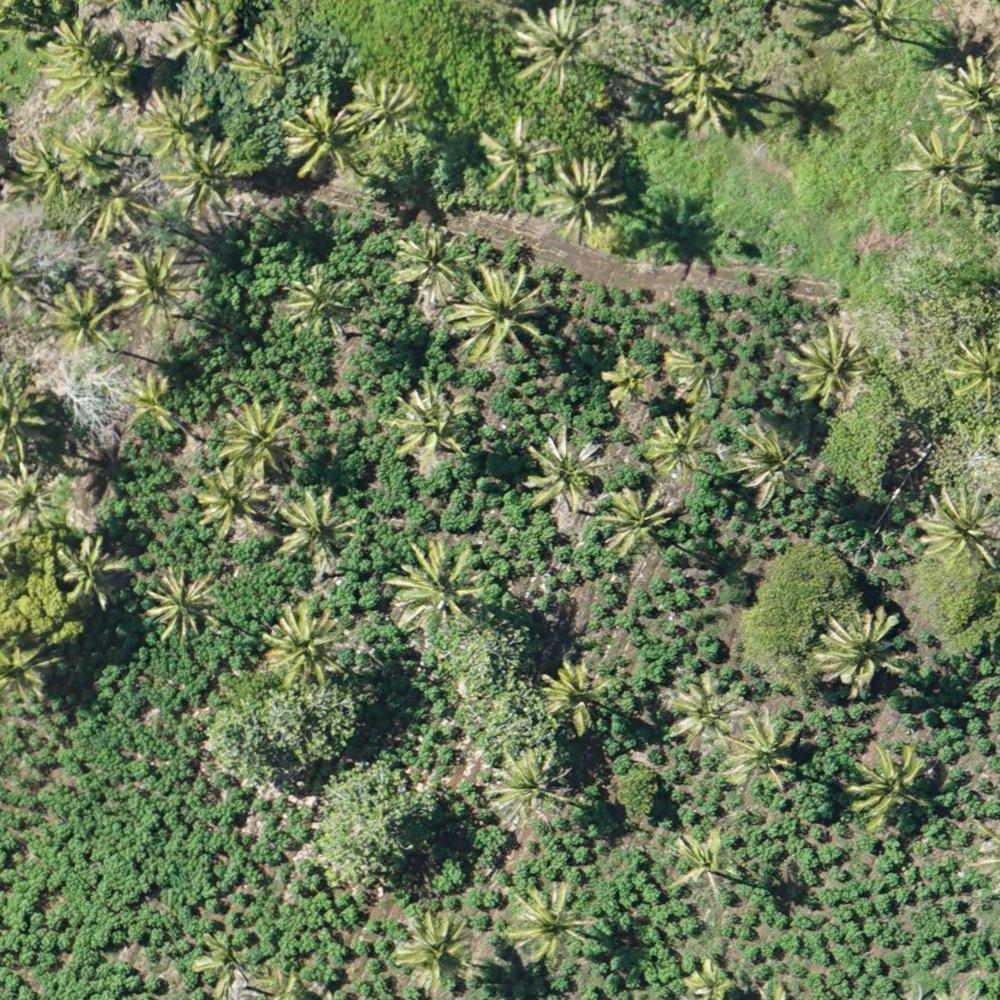Palm: (453, 267, 546, 359), (388, 538, 483, 627), (509, 1, 606, 85), (818, 607, 909, 695), (659, 28, 743, 118), (525, 429, 611, 516), (42, 15, 130, 99), (850, 745, 934, 832), (113, 246, 203, 327), (898, 133, 989, 211), (508, 882, 593, 965), (396, 909, 479, 991), (262, 601, 346, 682), (543, 159, 625, 241), (726, 710, 804, 795), (37, 280, 118, 360), (389, 383, 468, 465), (671, 672, 747, 757), (921, 489, 1000, 570), (493, 746, 570, 828), (732, 423, 805, 509), (667, 828, 743, 909), (278, 491, 353, 572), (602, 489, 683, 562), (795, 328, 870, 405), (280, 267, 355, 343), (221, 402, 299, 475), (484, 117, 556, 194), (168, 140, 242, 214), (198, 464, 274, 536), (393, 225, 465, 301), (287, 98, 358, 175), (12, 132, 80, 209), (538, 660, 607, 735), (56, 534, 126, 606), (643, 414, 717, 481), (1, 464, 62, 545), (228, 25, 295, 96), (141, 88, 212, 155), (936, 54, 1000, 126), (149, 572, 218, 638), (349, 73, 416, 140), (167, 2, 233, 68), (836, 1, 920, 52), (118, 371, 176, 435), (57, 123, 118, 181), (1, 646, 57, 705), (603, 359, 651, 406)
